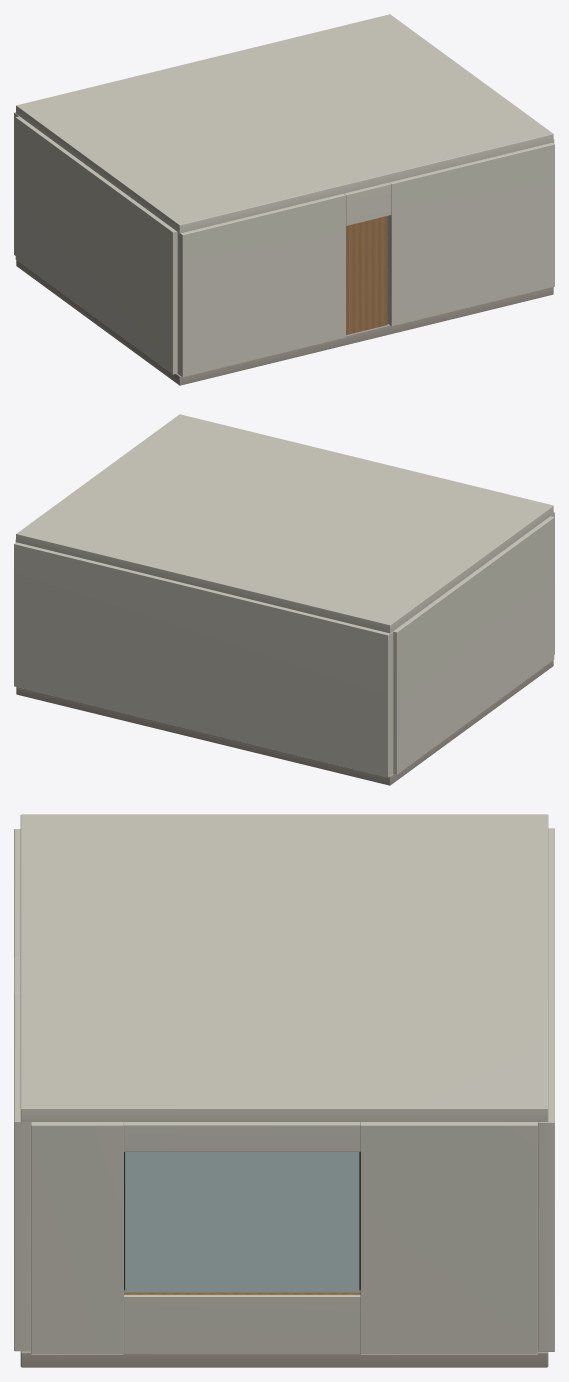
Rendered from BenchmarkLounge.fbx.
3 views of the same model, one above another, from view 1: azimuth 30°, elevation 25°; view 2: azimuth 150°, elevation 25°; view 3: azimuth 270°, elevation 25° (orthographic). The views are drawn at different scales.
Parts seen in each view (by area): view 1: Architecture_Ceiling, Architecture_Wall_Front, Architecture_Wall_Left, Architecture_Floor; view 2: Architecture_Ceiling, Architecture_Wall_Back, Architecture_Wall_Left, Architecture_Floor; view 3: Architecture_Ceiling, Architecture_Wall_Right, Architecture_Floor, Architecture_Wall_Back, Architecture_Wall_Front.
Boxes of the visible parts, x1,y1,x2,y2 form: Architecture_Ceiling: (16, 14, 553, 233); Architecture_Wall_Front: (177, 142, 554, 377); Architecture_Wall_Left: (15, 116, 177, 374); Architecture_Floor: (16, 260, 553, 385); Architecture_Ceiling: (16, 414, 553, 633); Architecture_Wall_Back: (14, 542, 393, 777); Architecture_Wall_Left: (393, 516, 554, 774); Architecture_Floor: (16, 660, 553, 785); Architecture_Ceiling: (20, 814, 548, 1121); Architecture_Wall_Right: (31, 1122, 537, 1354); Architecture_Floor: (20, 1351, 548, 1367); Architecture_Wall_Back: (538, 828, 554, 1351); Architecture_Wall_Front: (14, 829, 30, 1351).
Bounding box in the file's own units: 8.4 × 3.38 × 6.4.
Materials: 17 (2 with a texture image).
